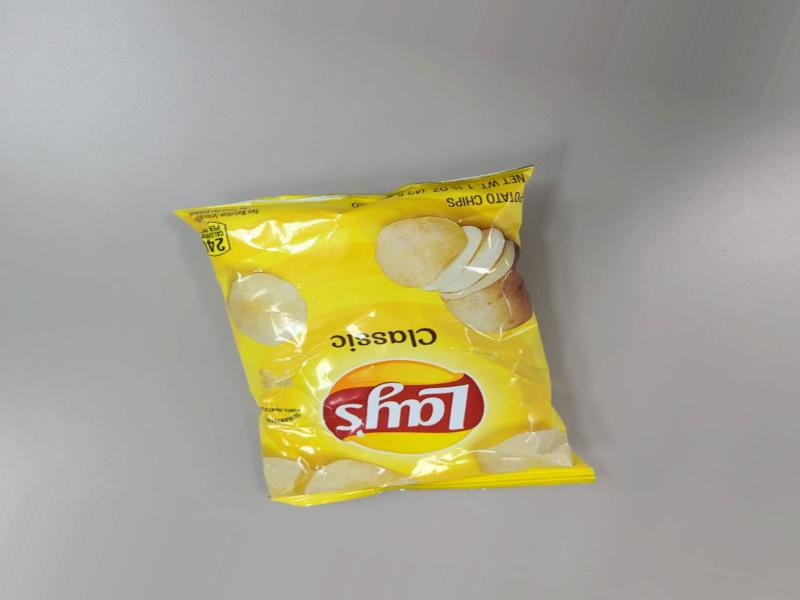lays: (203, 166, 575, 522)
